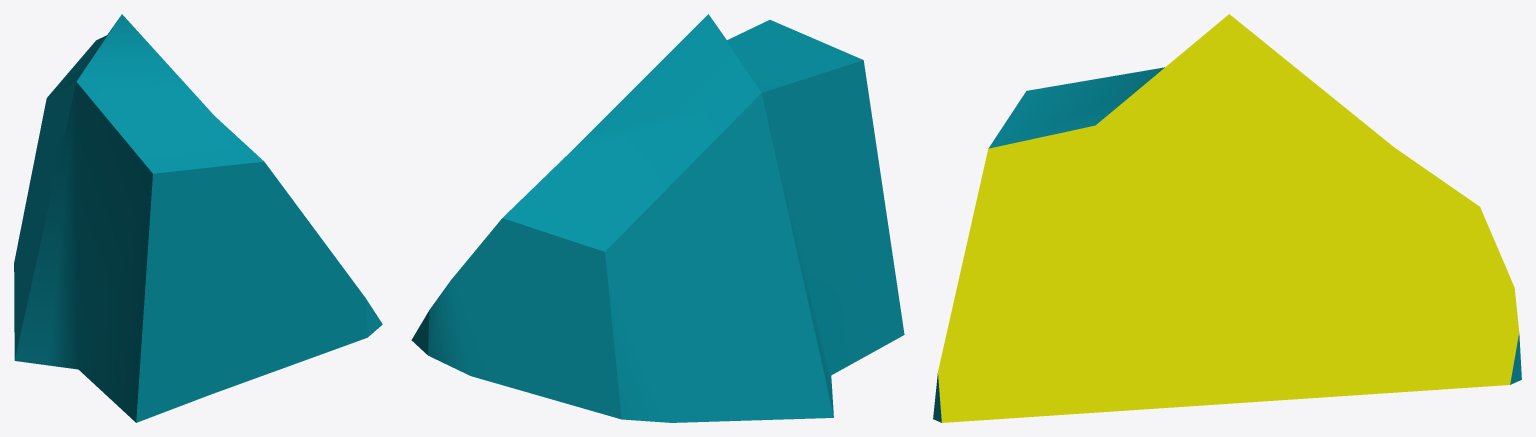
3 views of the same model, side by side, from view 1: azimuth 30°, elevation 25°; view 2: azimuth 150°, elevation 25°; view 3: azimuth 270°, elevation 25° (orthographic). The views are drawn at different scales.
Parts seen in each view (by area): view 1: polySurface12; view 2: polySurface12; view 3: polySurface12.
Boxes of the visible parts, x1,y1,x2,y2 form: polySurface12: [14, 14, 382, 422]; polySurface12: [411, 14, 904, 422]; polySurface12: [933, 14, 1521, 422].
Size of the model in its own units: 0.274 by 0.336 by 0.4488.
